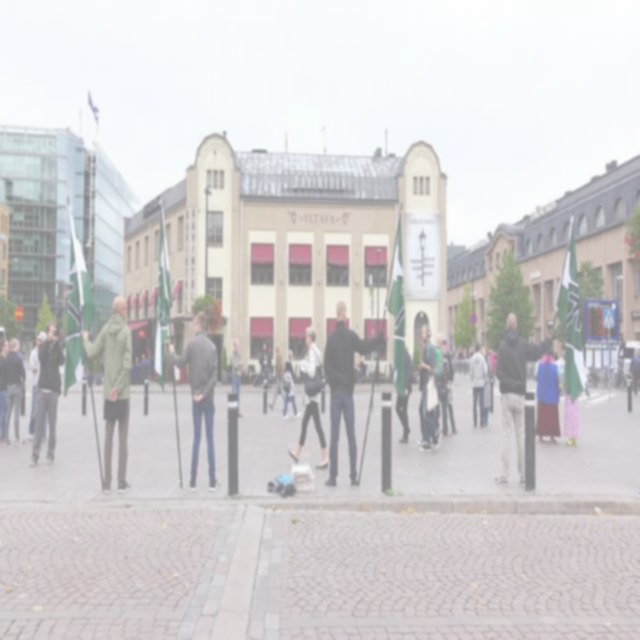pessoa: (322, 297, 386, 491), (80, 290, 136, 497), (491, 309, 555, 488), (167, 308, 220, 493), (284, 324, 332, 474), (531, 340, 567, 447), (416, 322, 444, 454), (1, 336, 26, 448), (560, 334, 582, 446), (27, 329, 48, 442), (440, 336, 459, 440), (393, 344, 412, 446), (468, 340, 489, 430), (27, 332, 44, 443), (433, 330, 448, 438), (281, 346, 302, 422), (268, 342, 290, 414), (0, 338, 12, 442), (229, 338, 244, 421), (417, 336, 427, 447), (481, 344, 494, 428), (134, 350, 152, 386), (628, 346, 640, 398), (258, 342, 269, 386), (264, 344, 274, 389), (579, 362, 590, 399), (453, 342, 473, 362), (356, 354, 366, 386), (488, 349, 497, 374), (19, 336, 26, 363)
